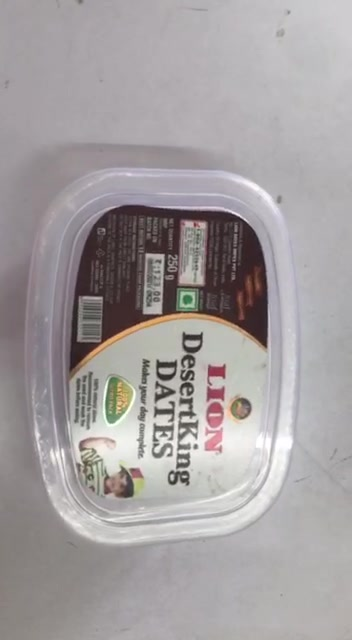Lion dates: (25, 168, 296, 544)
